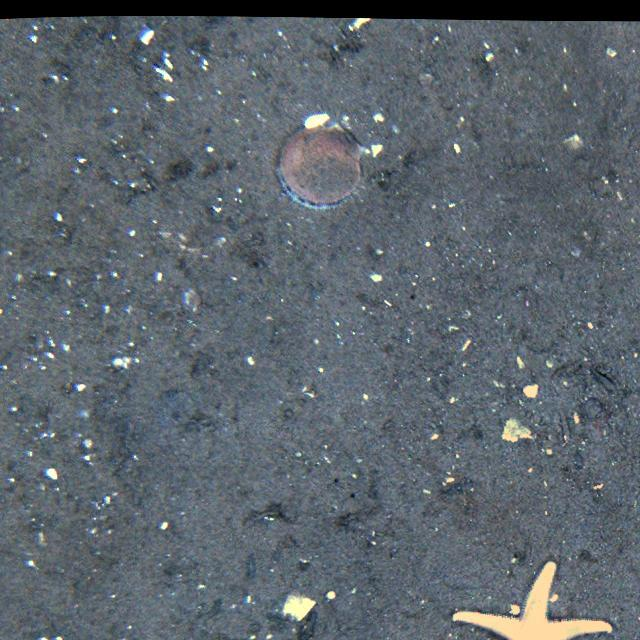scallop: (276, 123, 368, 213)
